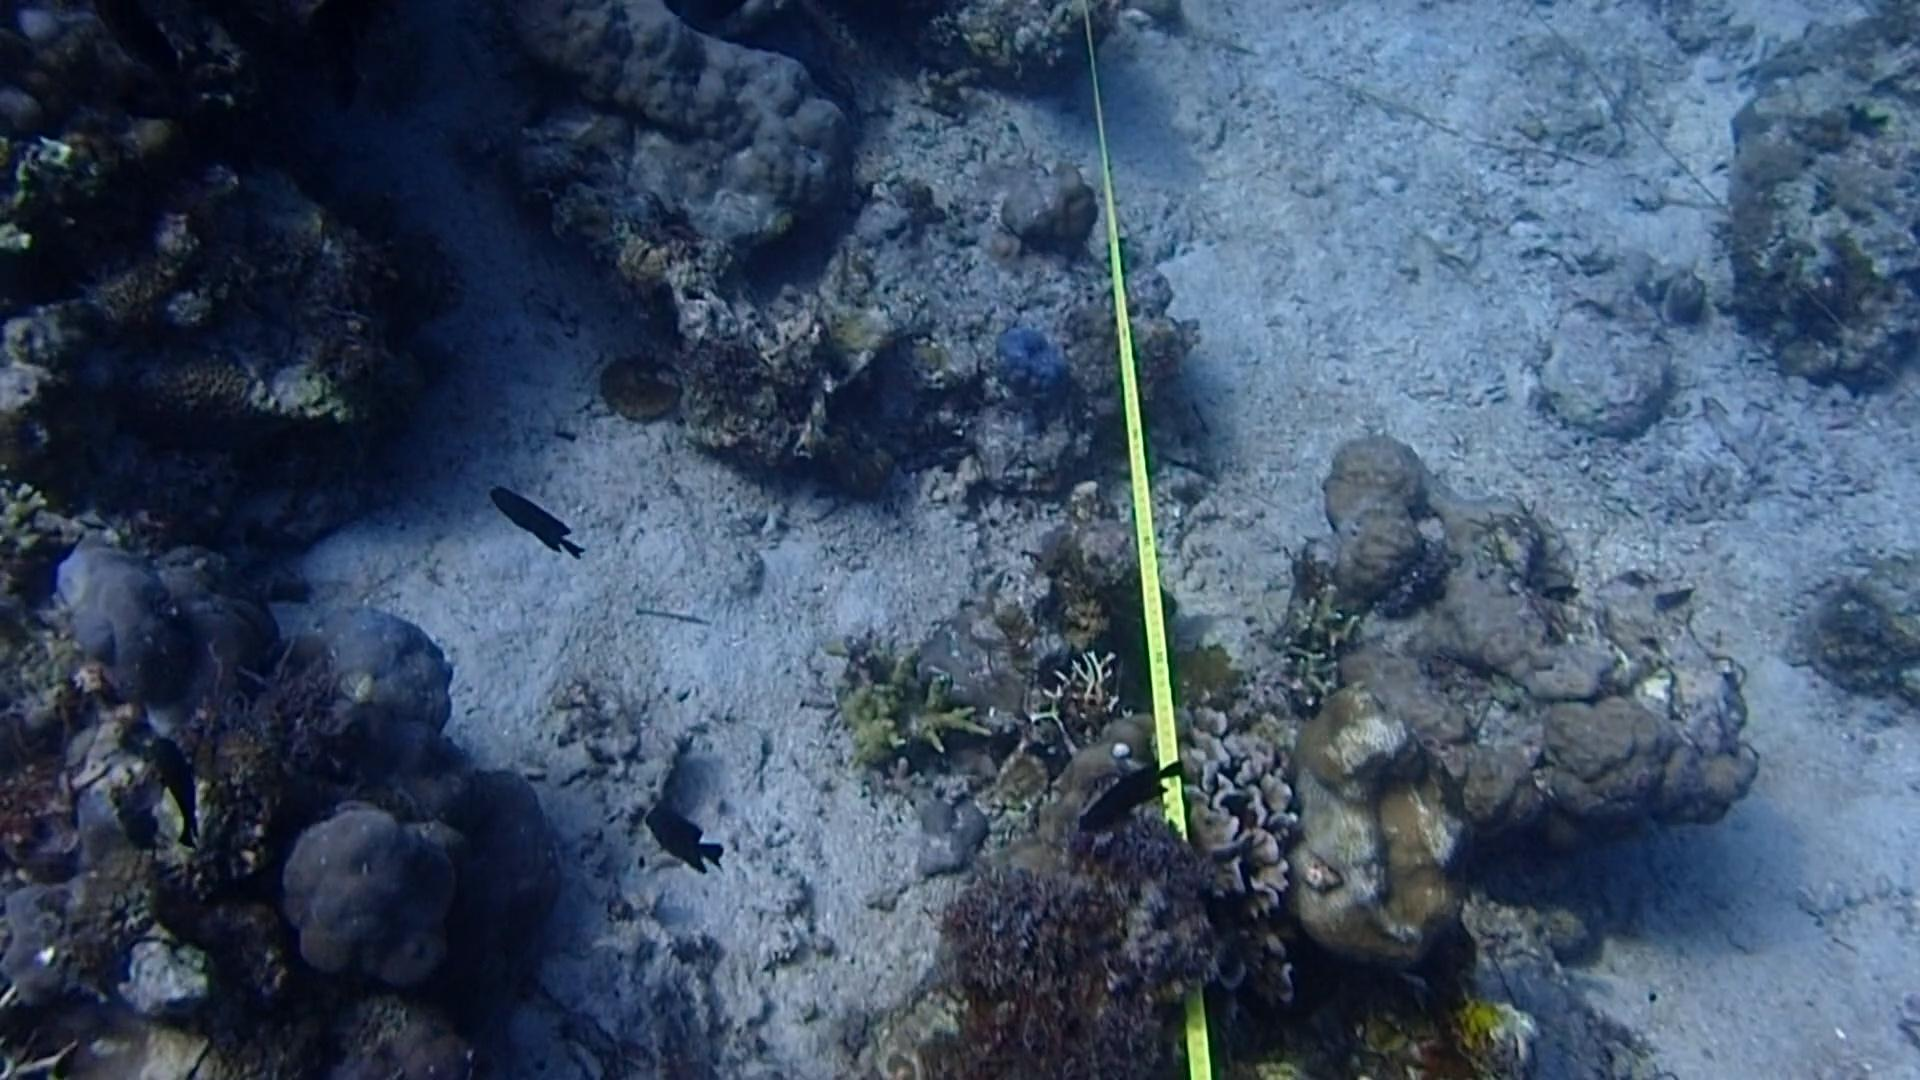Dark Fish: (483, 480, 593, 572), (142, 720, 212, 858), (1077, 764, 1176, 847), (641, 798, 727, 880), (340, 5, 397, 121)
Light Fish: (1643, 251, 1700, 330)
